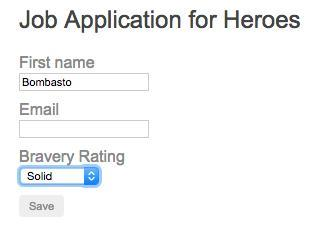button: (18, 195, 65, 217)
dropdown: (18, 166, 103, 188)
input: (20, 74, 150, 92), (20, 121, 150, 139)
label: (13, 4, 304, 38), (20, 148, 128, 167), (18, 55, 99, 72), (20, 99, 63, 118)
